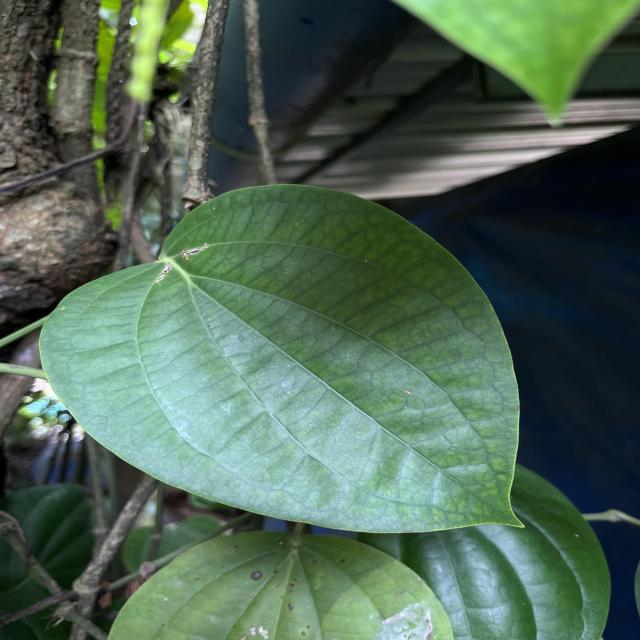Piper nigrum: (38, 182, 528, 536)
